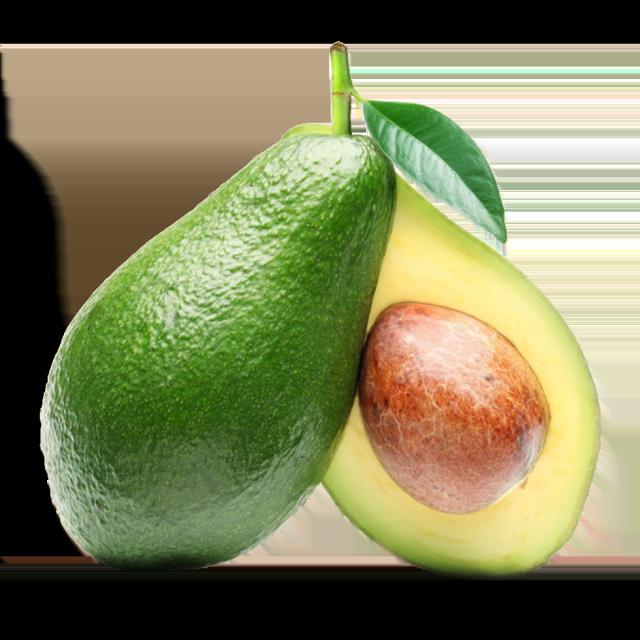aguacate: (20, 108, 404, 583), (265, 111, 621, 592)
